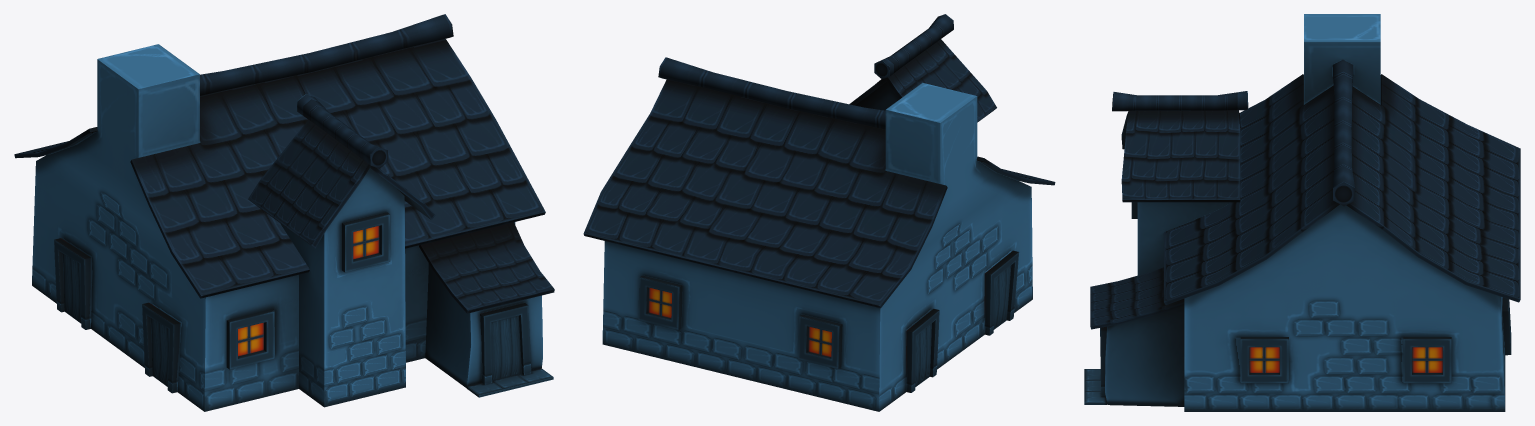
The model's file is House7.FBX.
3 views of the same model, side by side, from view 1: azimuth 30°, elevation 25°; view 2: azimuth 150°, elevation 25°; view 3: azimuth 270°, elevation 25° (orthographic). The views are drawn at different scales.
Parts seen in each view (by area): view 1: House7; view 2: House7; view 3: House7.
Boxes of the visible parts, x1=… form: House7: x1=14, y1=14, x2=554, y2=411; House7: x1=583, y1=14, x2=1055, y2=411; House7: x1=1084, y1=14, x2=1520, y2=411.
Size of the model in its own units: 204 by 154 by 237.
